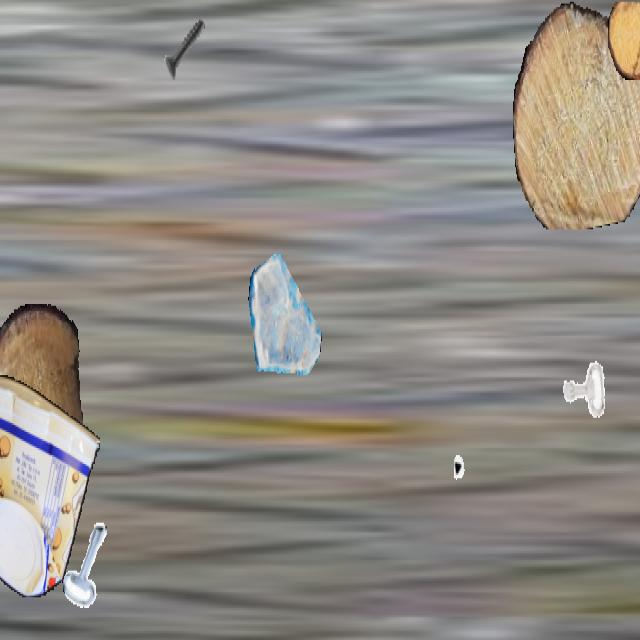glass: (248, 247, 322, 379)
metal: (454, 423, 516, 533), (557, 343, 609, 436), (159, 2, 211, 94), (62, 521, 114, 613)
plastic: (0, 375, 100, 596)
wood: (513, 2, 640, 229), (0, 304, 82, 489), (608, 2, 640, 80)
